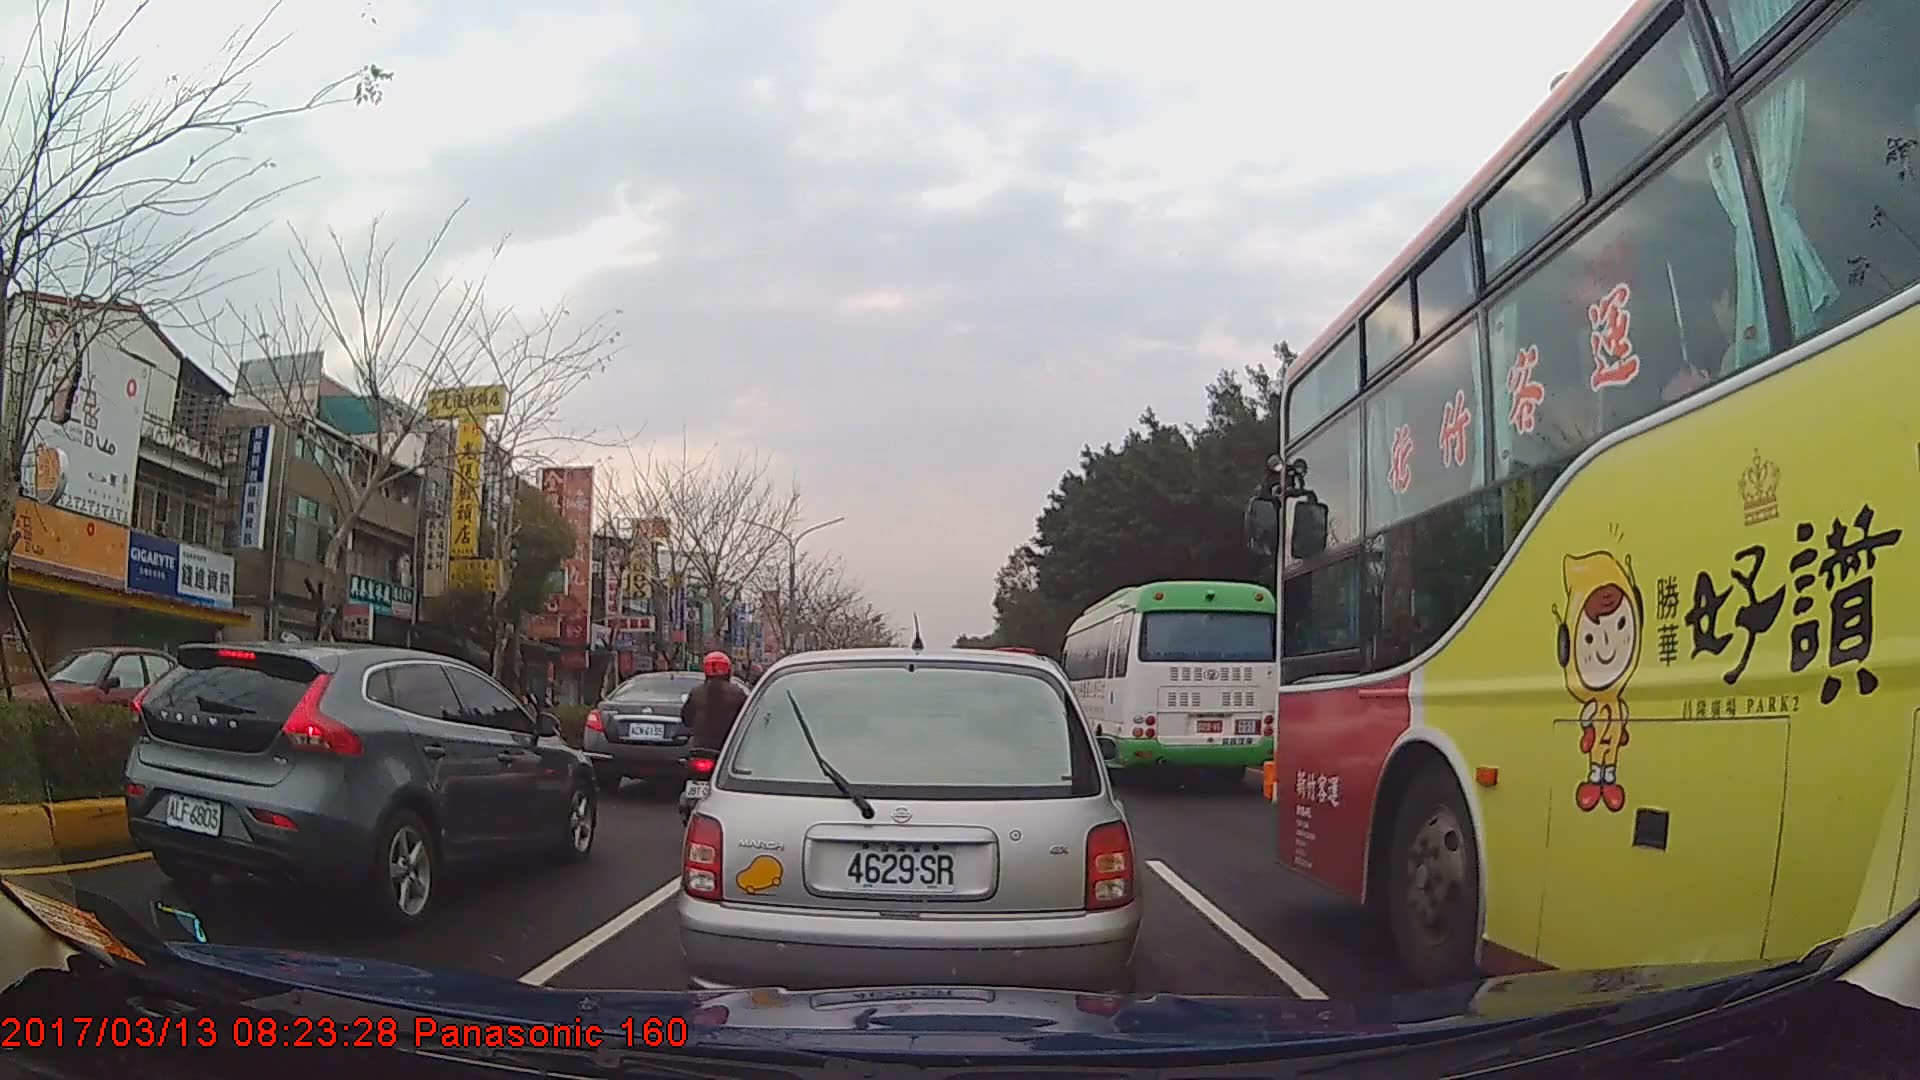rider: (677, 649, 760, 835)
vehicle: (1273, 0, 1920, 1001), (679, 639, 1144, 1017), (121, 638, 600, 931), (1058, 579, 1284, 786), (0, 642, 218, 750), (583, 671, 758, 793)
